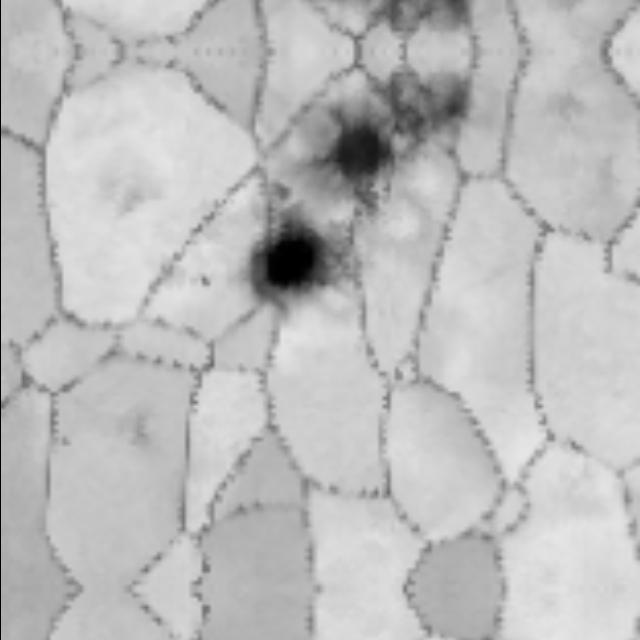good_void: (304, 54, 484, 216), (247, 207, 375, 323), (71, 108, 172, 217), (319, 0, 481, 48), (91, 399, 171, 462), (265, 180, 301, 204), (196, 273, 216, 294)
